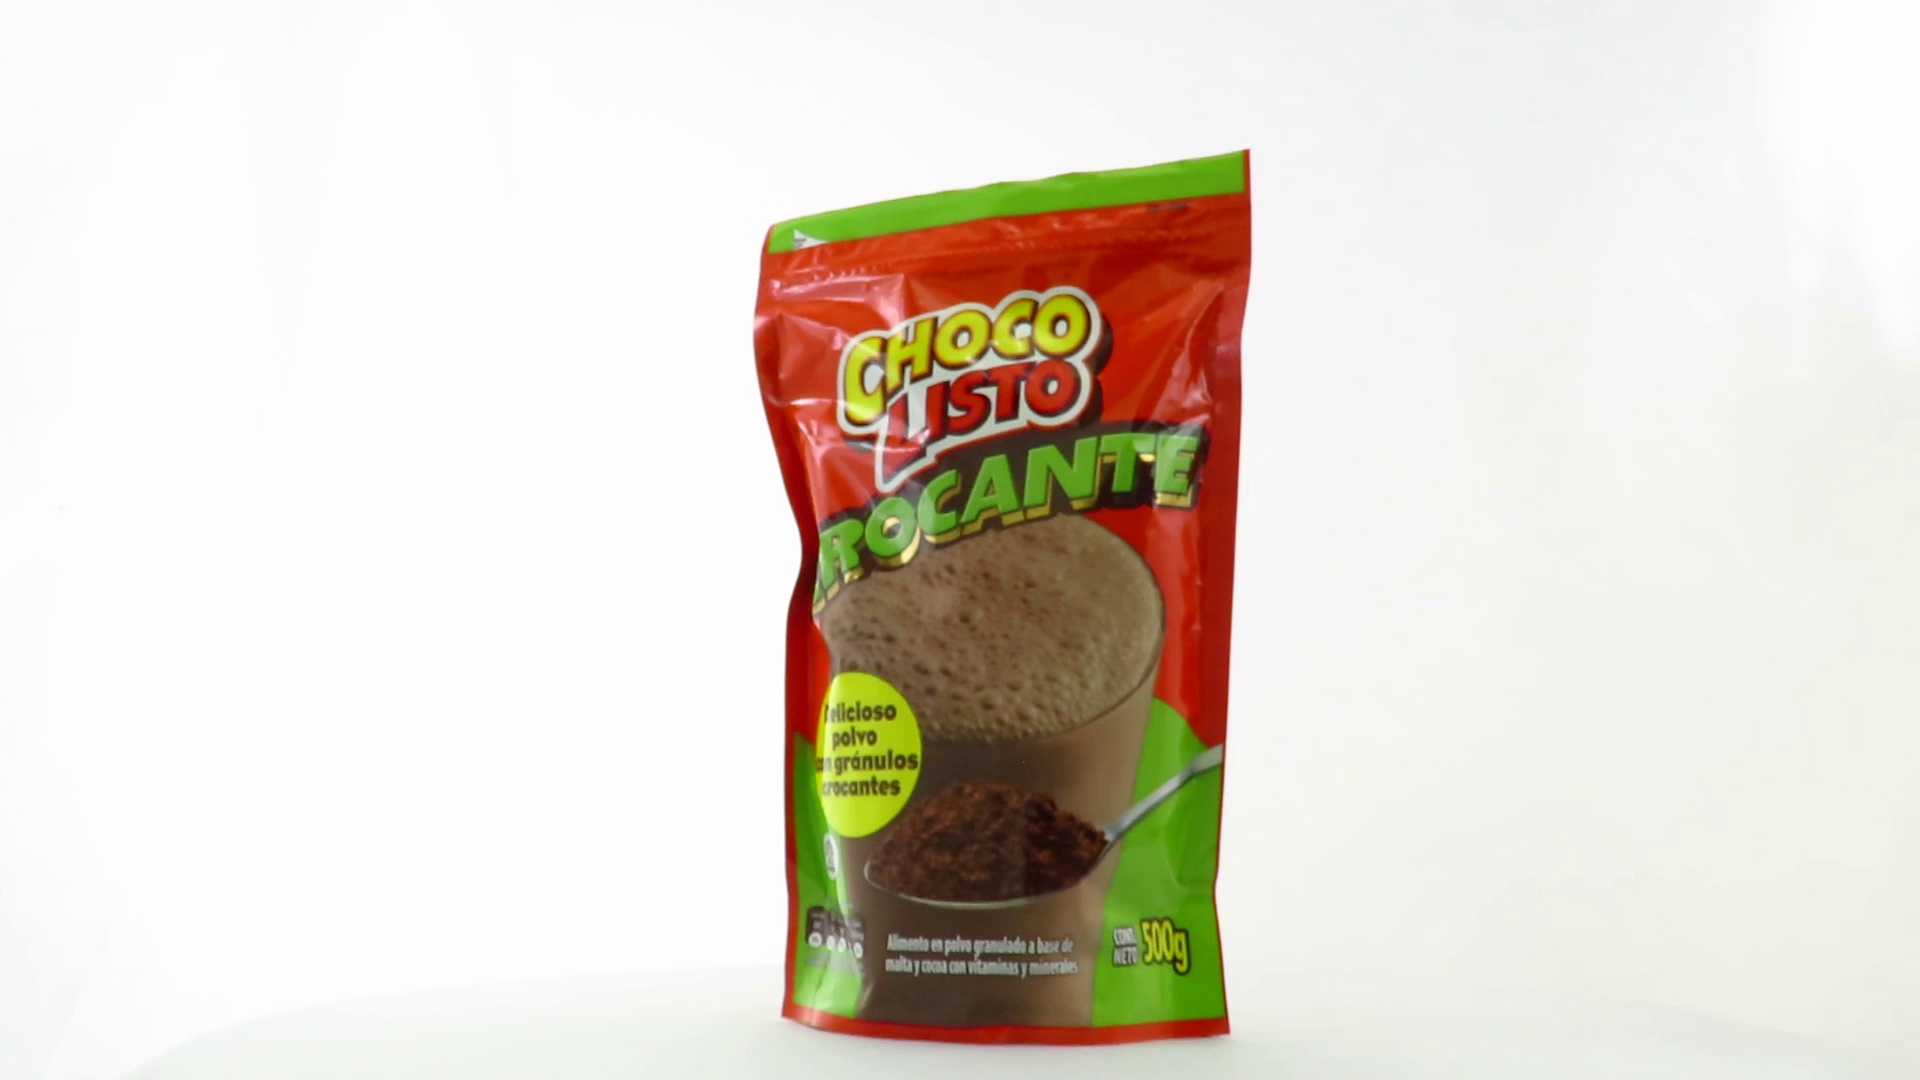COL0170102DYP50000: (748, 144, 1258, 1054)
